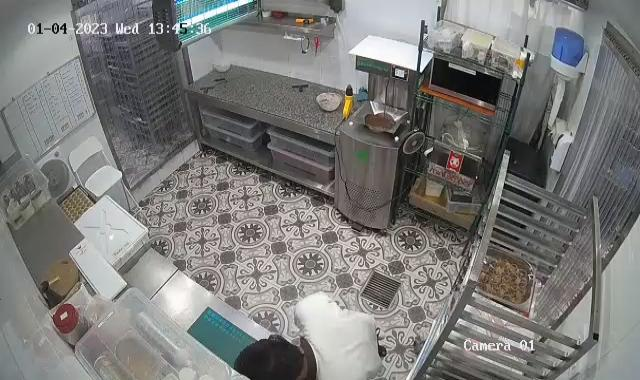no_hairnet: (232, 332, 306, 380)
